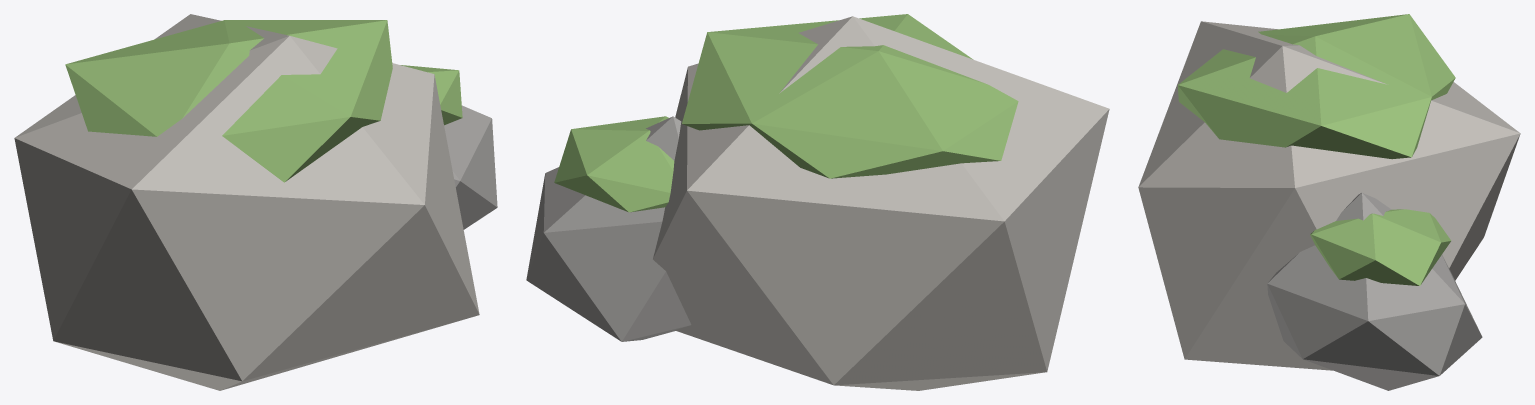
The model's file is rock_a.glb.
The picture shows the model from 3 angles, left to right: view 1: azimuth 30°, elevation 25°; view 2: azimuth 150°, elevation 25°; view 3: azimuth 270°, elevation 25°; orthographic projection. The views are drawn at different scales.
Parts seen in each view (by area): view 1: rock_a; view 2: rock_a; view 3: rock_a.
Part boxes in pixels (x1,y1,x2,y2): rock_a: (14,14,497,390); rock_a: (526,14,1109,390); rock_a: (1138,14,1520,390).
Bounding box in the file's own units: 2.43 × 1.72 × 1.9.
